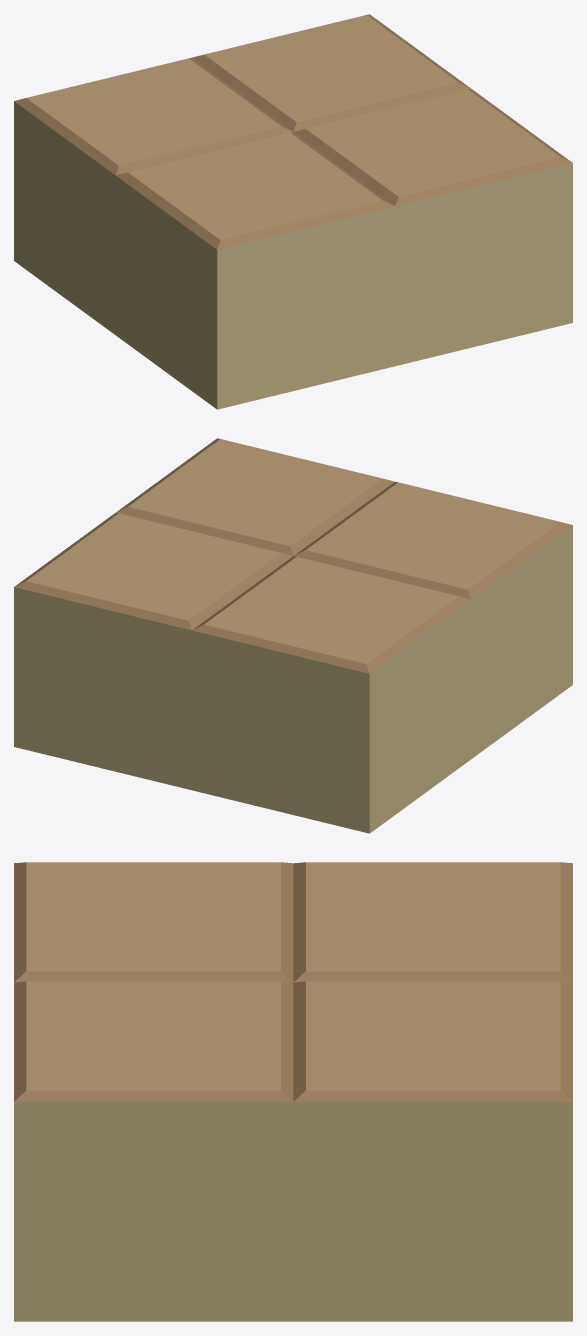
The model's file is Piso-Agua.FBX.
The picture shows the model from 3 angles, top to bottom: view 1: azimuth 30°, elevation 25°; view 2: azimuth 150°, elevation 25°; view 3: azimuth 270°, elevation 25°; orthographic projection. The views are drawn at different scales.
Parts seen in each view (by area): view 1: Piso-Agua; view 2: Piso-Agua; view 3: Piso-Agua.
Boxes of the visible parts, <box> form: Piso-Agua: <box>14,14,572,409</box>; Piso-Agua: <box>14,438,572,833</box>; Piso-Agua: <box>14,862,572,1321</box>.
Size of the model in its own units: 202 by 89.22 by 200.
Materials: 1 (1 with a texture image).
